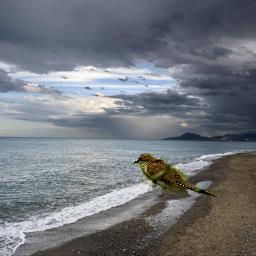Cuckoo: (132, 153, 220, 198)
